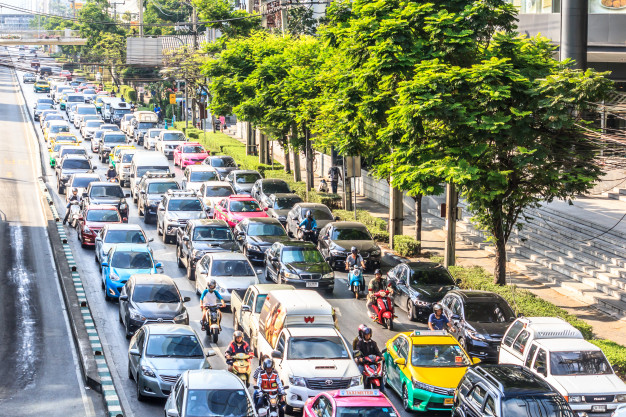Automovil: (381, 325, 458, 414), (437, 290, 517, 356), (254, 244, 343, 301), (128, 329, 211, 388), (170, 375, 263, 416), (171, 372, 255, 417), (385, 260, 458, 306), (200, 252, 258, 304), (124, 274, 181, 326), (318, 223, 380, 270), (104, 251, 160, 293), (282, 201, 338, 240), (238, 216, 302, 247), (213, 197, 274, 222), (76, 207, 126, 235), (257, 178, 298, 205), (227, 169, 260, 194), (276, 199, 321, 216), (181, 164, 224, 181), (55, 147, 95, 163), (41, 113, 71, 134), (50, 132, 77, 152), (203, 155, 238, 170), (117, 110, 141, 129)
Camioneta: (504, 316, 624, 416), (266, 326, 368, 411), (454, 360, 567, 417), (178, 218, 244, 269), (265, 240, 335, 287), (159, 188, 208, 233), (91, 186, 140, 219), (141, 172, 178, 208), (133, 151, 179, 178), (53, 156, 97, 178), (73, 105, 106, 127), (160, 131, 191, 152), (100, 133, 132, 152), (135, 123, 157, 145)
